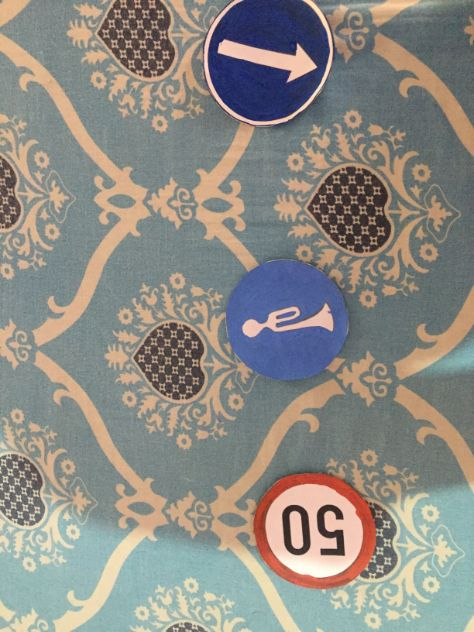blow-horn: (225, 256, 348, 379)
go-stright: (202, 2, 329, 129)
speed-50: (255, 472, 373, 590)
